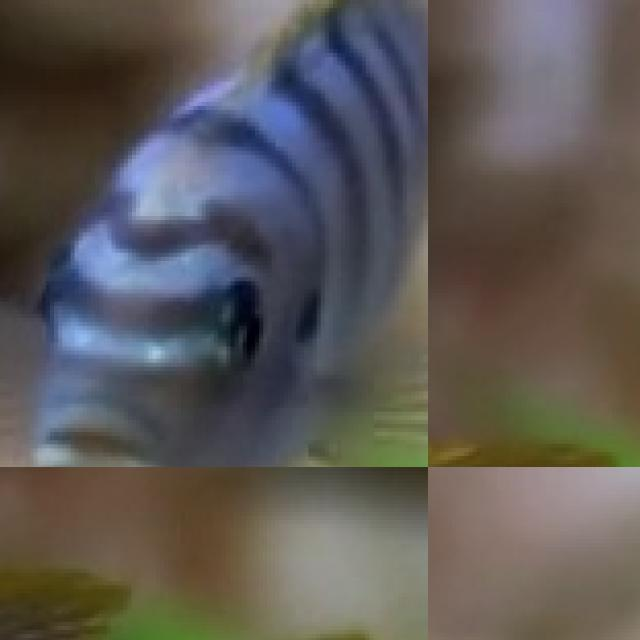fish: (0, 0, 428, 467)
